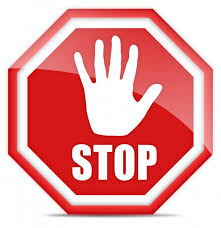SS: (8, 8, 212, 213)
